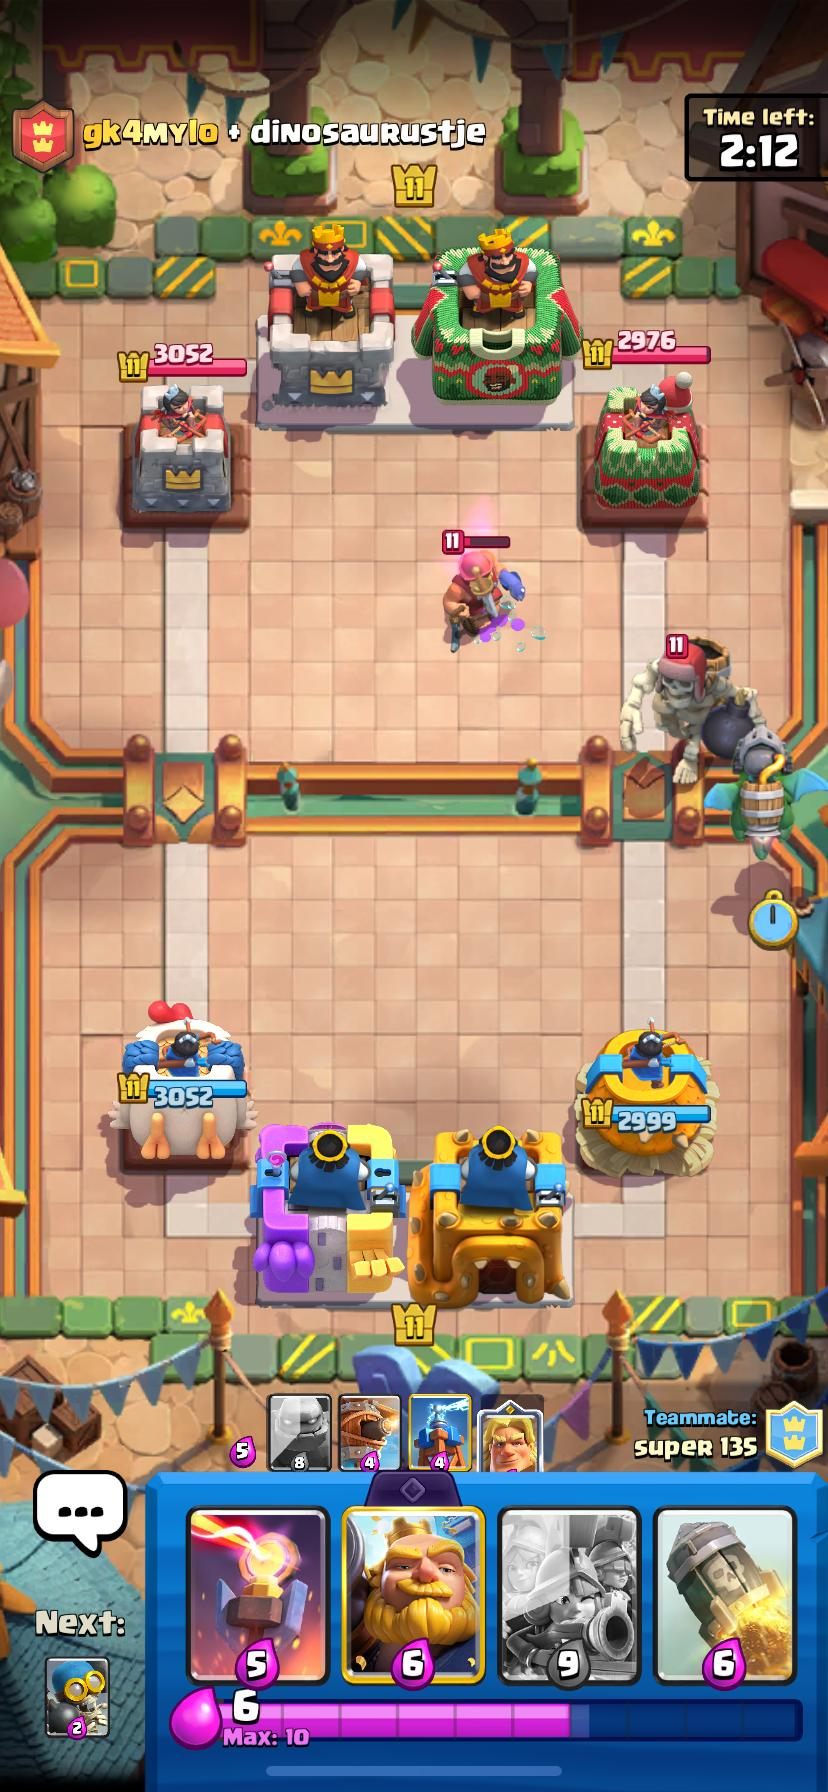EFisherman: (443, 549, 524, 648)
EGiantSkeleton: (620, 632, 735, 782)
EKingTower: (414, 226, 579, 402), (265, 222, 393, 407)
EnemyPrincessTower: (588, 373, 700, 523), (124, 381, 234, 523)
OInfernoDrag: (704, 727, 818, 859)
OwnKingTower: (407, 1125, 571, 1305), (253, 1123, 401, 1302)
OwnPrincessTower: (576, 1019, 716, 1173), (116, 1018, 253, 1159)
